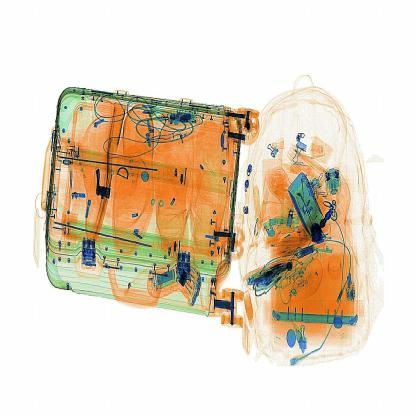scissors: (309, 221, 328, 248)
